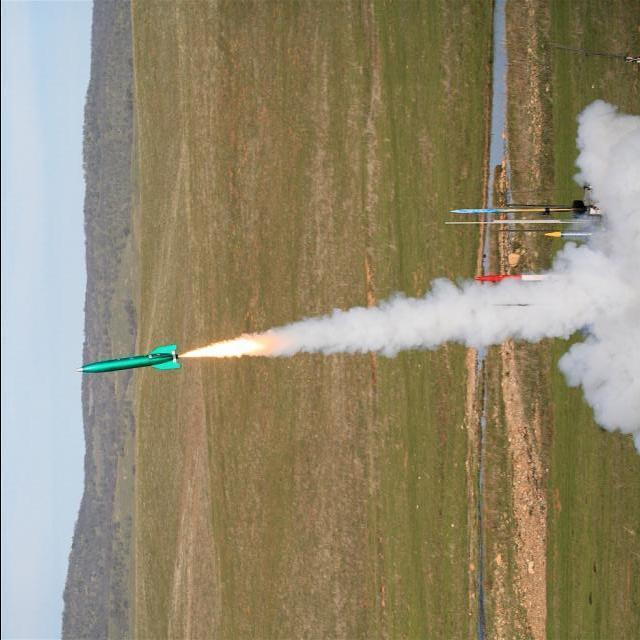missile: (78, 344, 180, 378)
